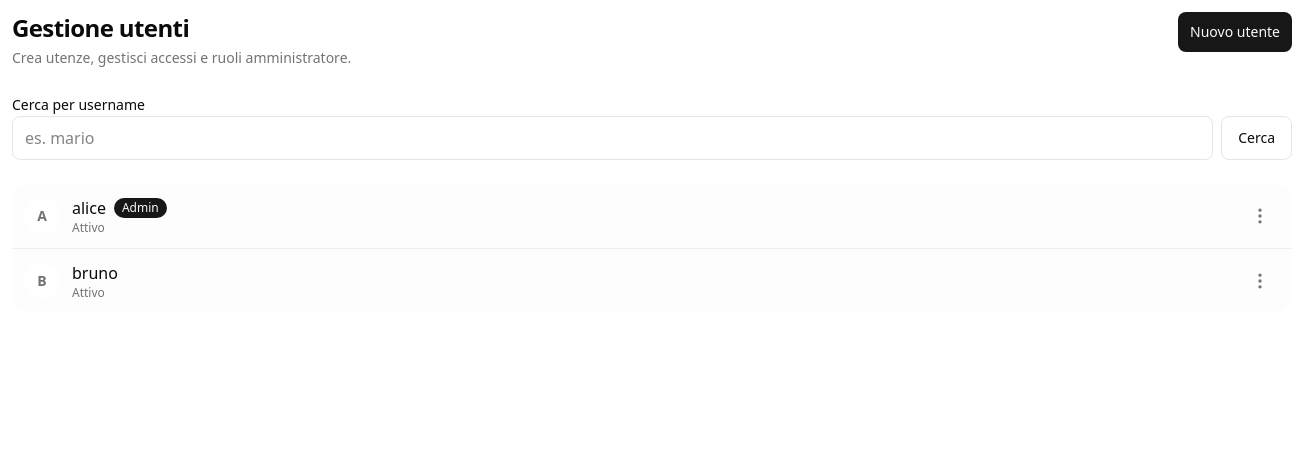
Test: UsersView › reimposta la password di un utente
Click the button named "Azioni per bruno": point(1260, 281) [1240, 261, 1280, 301]
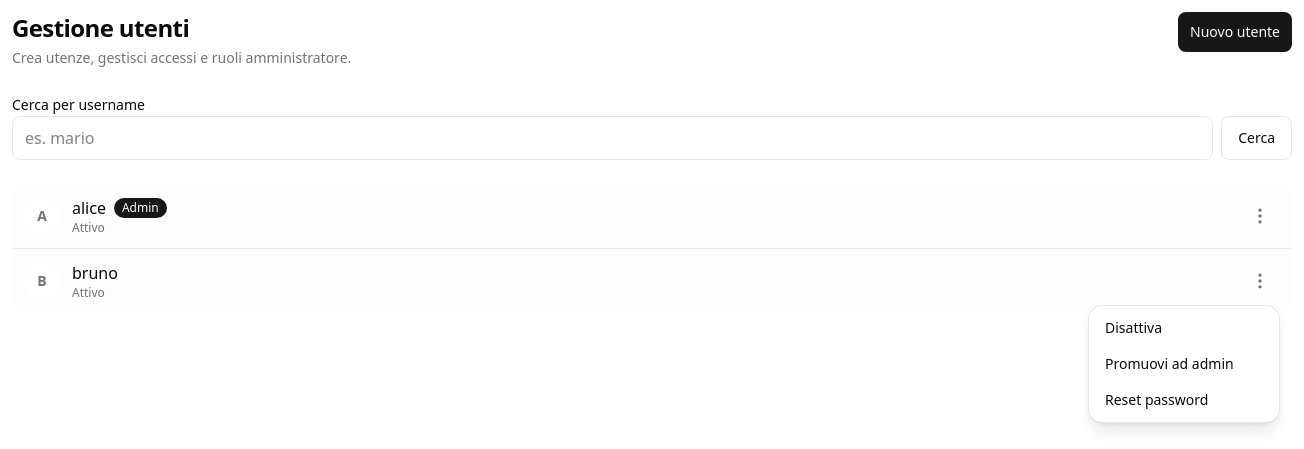
Click the menu item "Reset password": point(1184, 400) [1093, 382, 1275, 418]
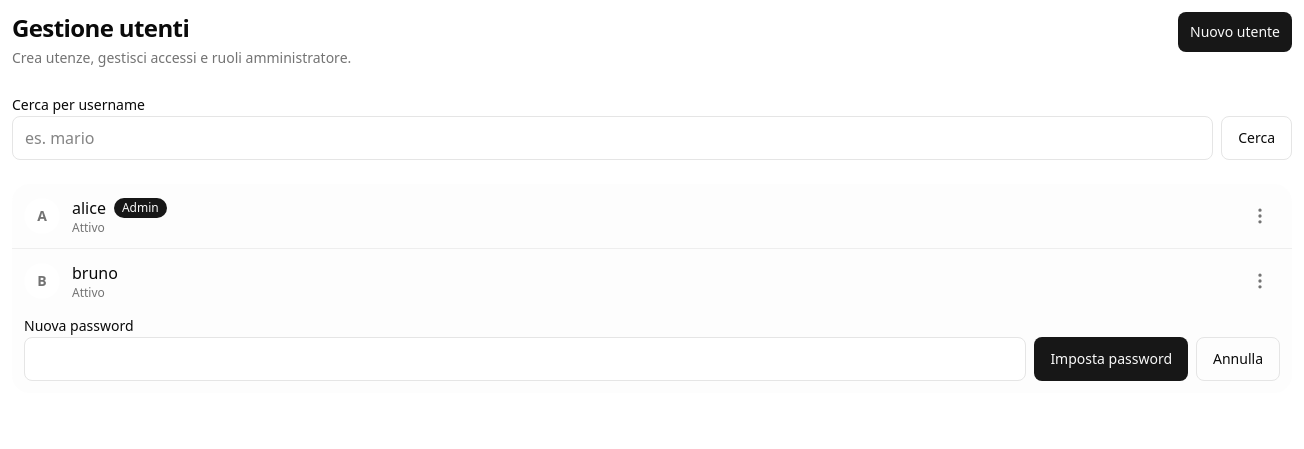
In the field with id "reset-password-u2": point(525, 359) [24, 337, 1026, 381], type "nuovapassword"
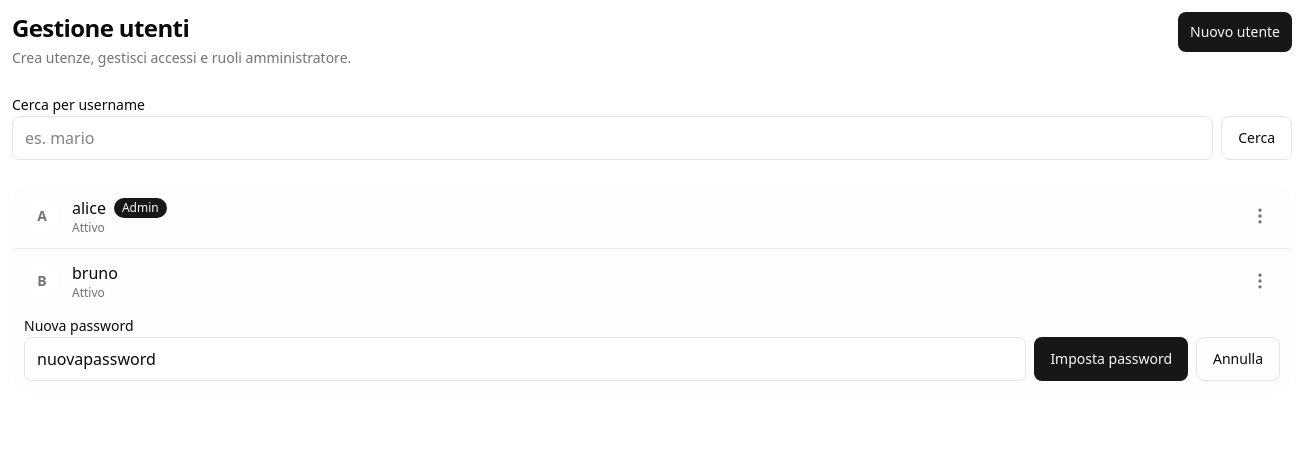
Submit the form with id "reset-form-u2", box [24, 313, 1280, 381]
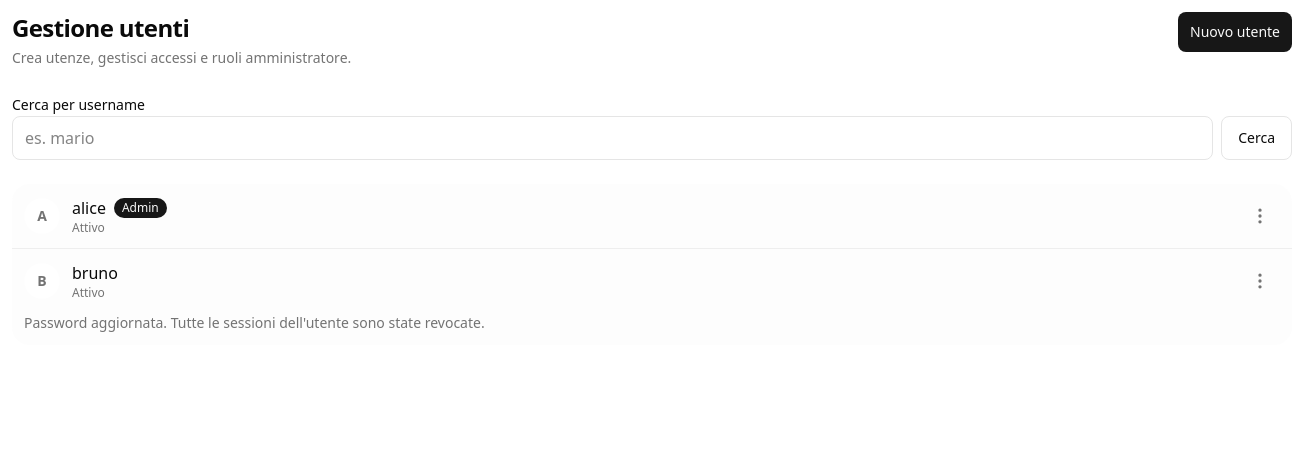
Result: the text "Password aggiornata" is shown at [24, 313, 485, 332]
